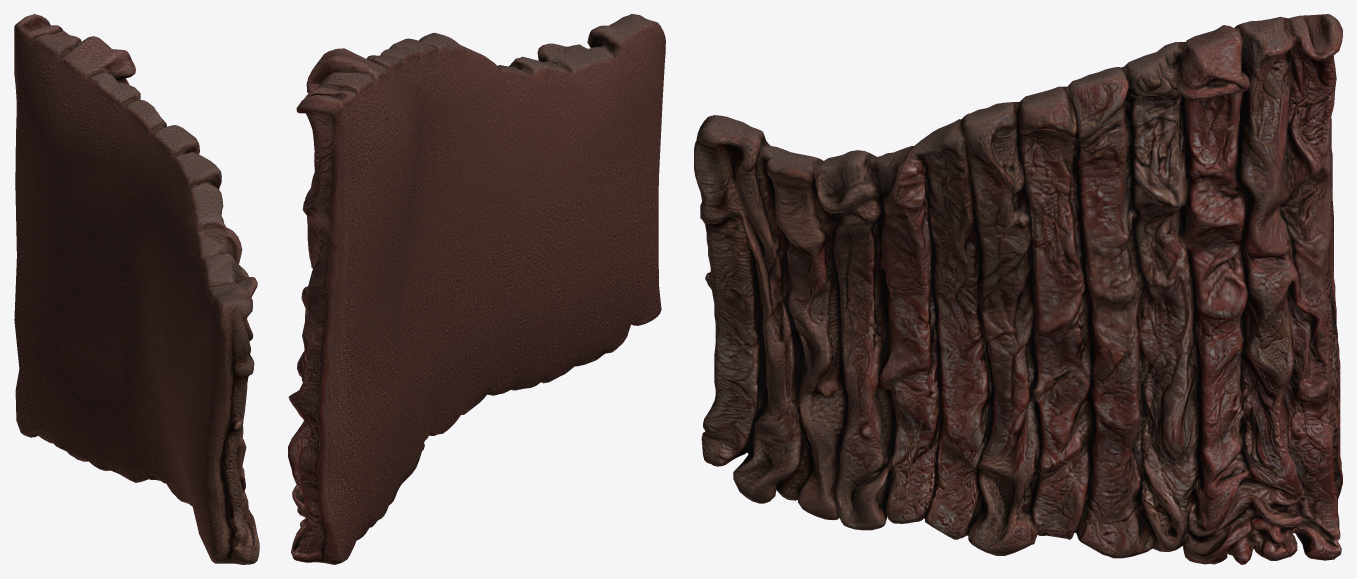
3 views of the same model, side by side, from view 1: azimuth 30°, elevation 25°; view 2: azimuth 150°, elevation 25°; view 3: azimuth 270°, elevation 25° (orthographic). The views are drawn at different scales.
Visible parts, largest first — view 1: tripo_node_657bc1ef-a848-4c38-ad88-9c0806bc583a; view 2: tripo_node_657bc1ef-a848-4c38-ad88-9c0806bc583a; view 3: tripo_node_657bc1ef-a848-4c38-ad88-9c0806bc583a.
Boxes of the visible parts, x1,y1,x2,y2 form: tripo_node_657bc1ef-a848-4c38-ad88-9c0806bc583a: (14, 14, 259, 564); tripo_node_657bc1ef-a848-4c38-ad88-9c0806bc583a: (288, 14, 665, 564); tripo_node_657bc1ef-a848-4c38-ad88-9c0806bc583a: (694, 14, 1342, 564).
Bounding box in the file's own units: 0.2754 × 0.8965 × 0.998.
1 material, 1 textured.
